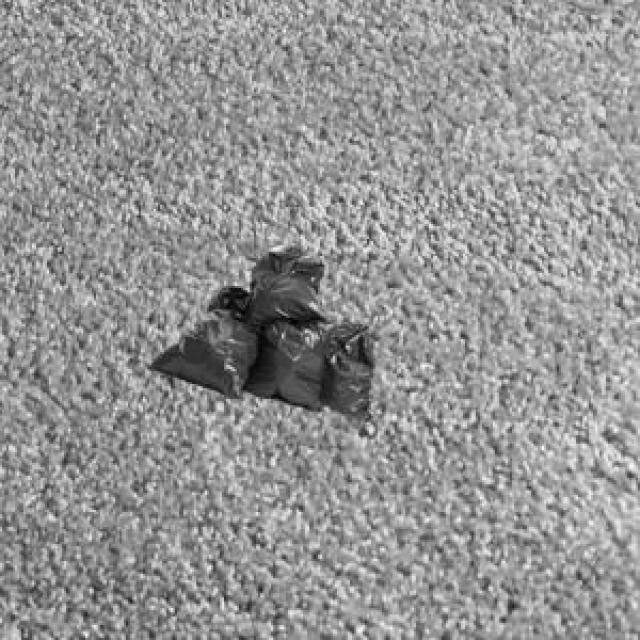miscellaneous trash: (145, 243, 371, 418)
